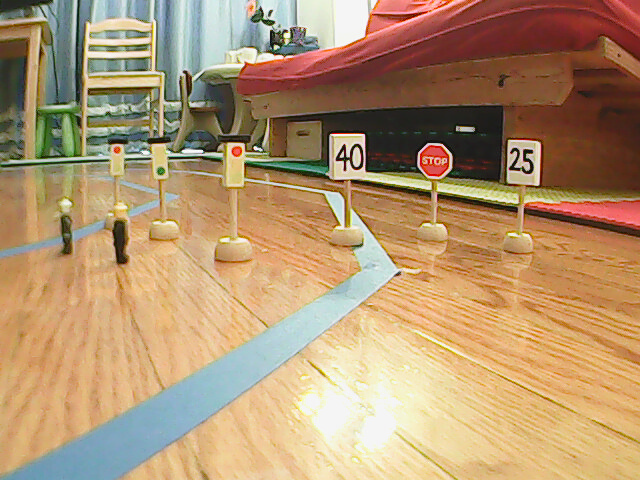Green Traffic Light: (147, 138, 170, 181)
Person: (56, 198, 75, 255), (114, 204, 131, 263)
Red Traffic Light: (219, 134, 252, 188), (108, 139, 127, 179)
Speed Limit 25: (505, 139, 540, 188)
Speed Limit 40: (329, 135, 368, 181)
Stop Sign: (414, 142, 455, 181)
